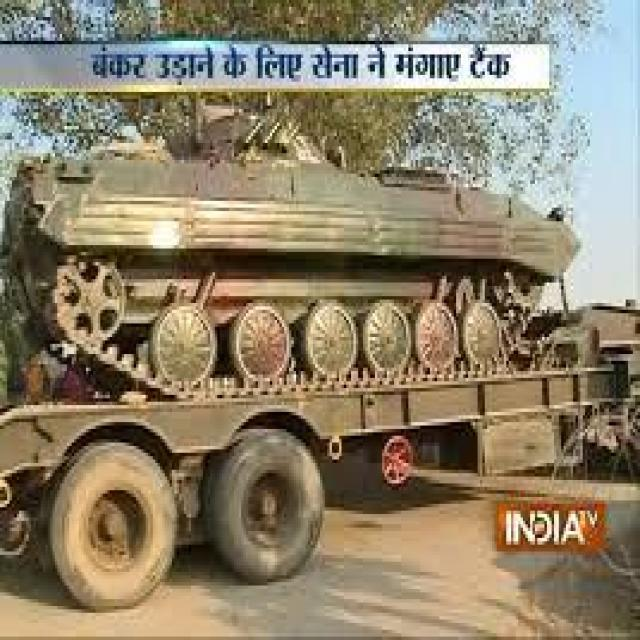Tanks: (7, 154, 487, 576)
